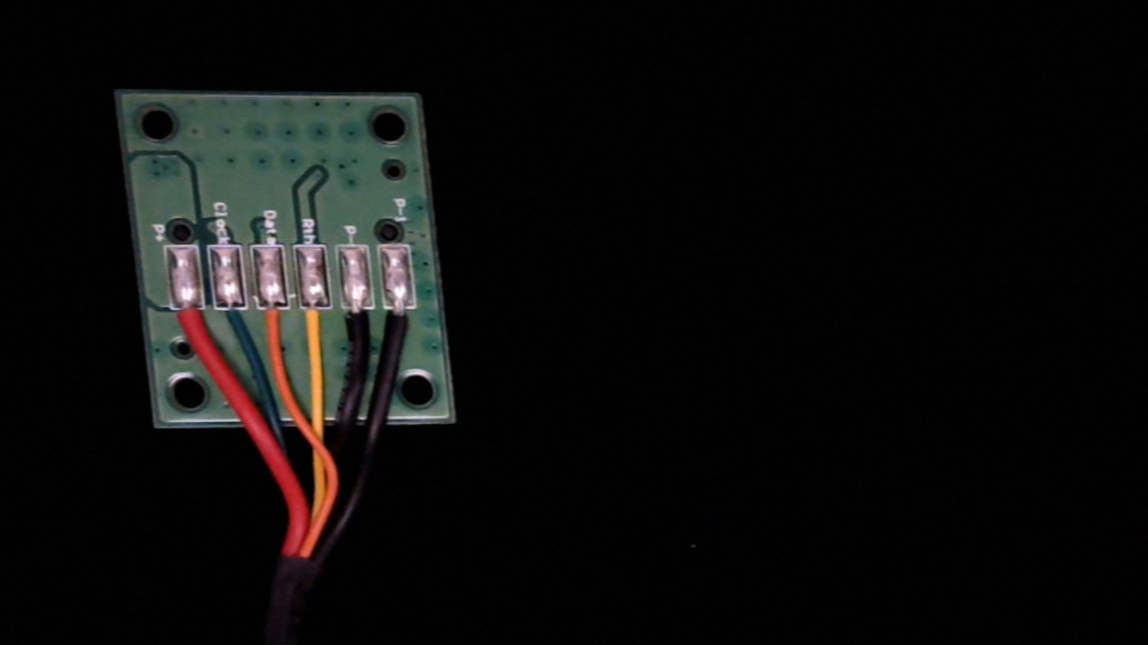Black: (340, 296, 376, 358)
Black1: (383, 297, 422, 355)
Green: (213, 297, 256, 350)
Orange: (257, 295, 296, 353)
Red: (168, 298, 211, 355)
Yellow: (297, 296, 338, 359)
